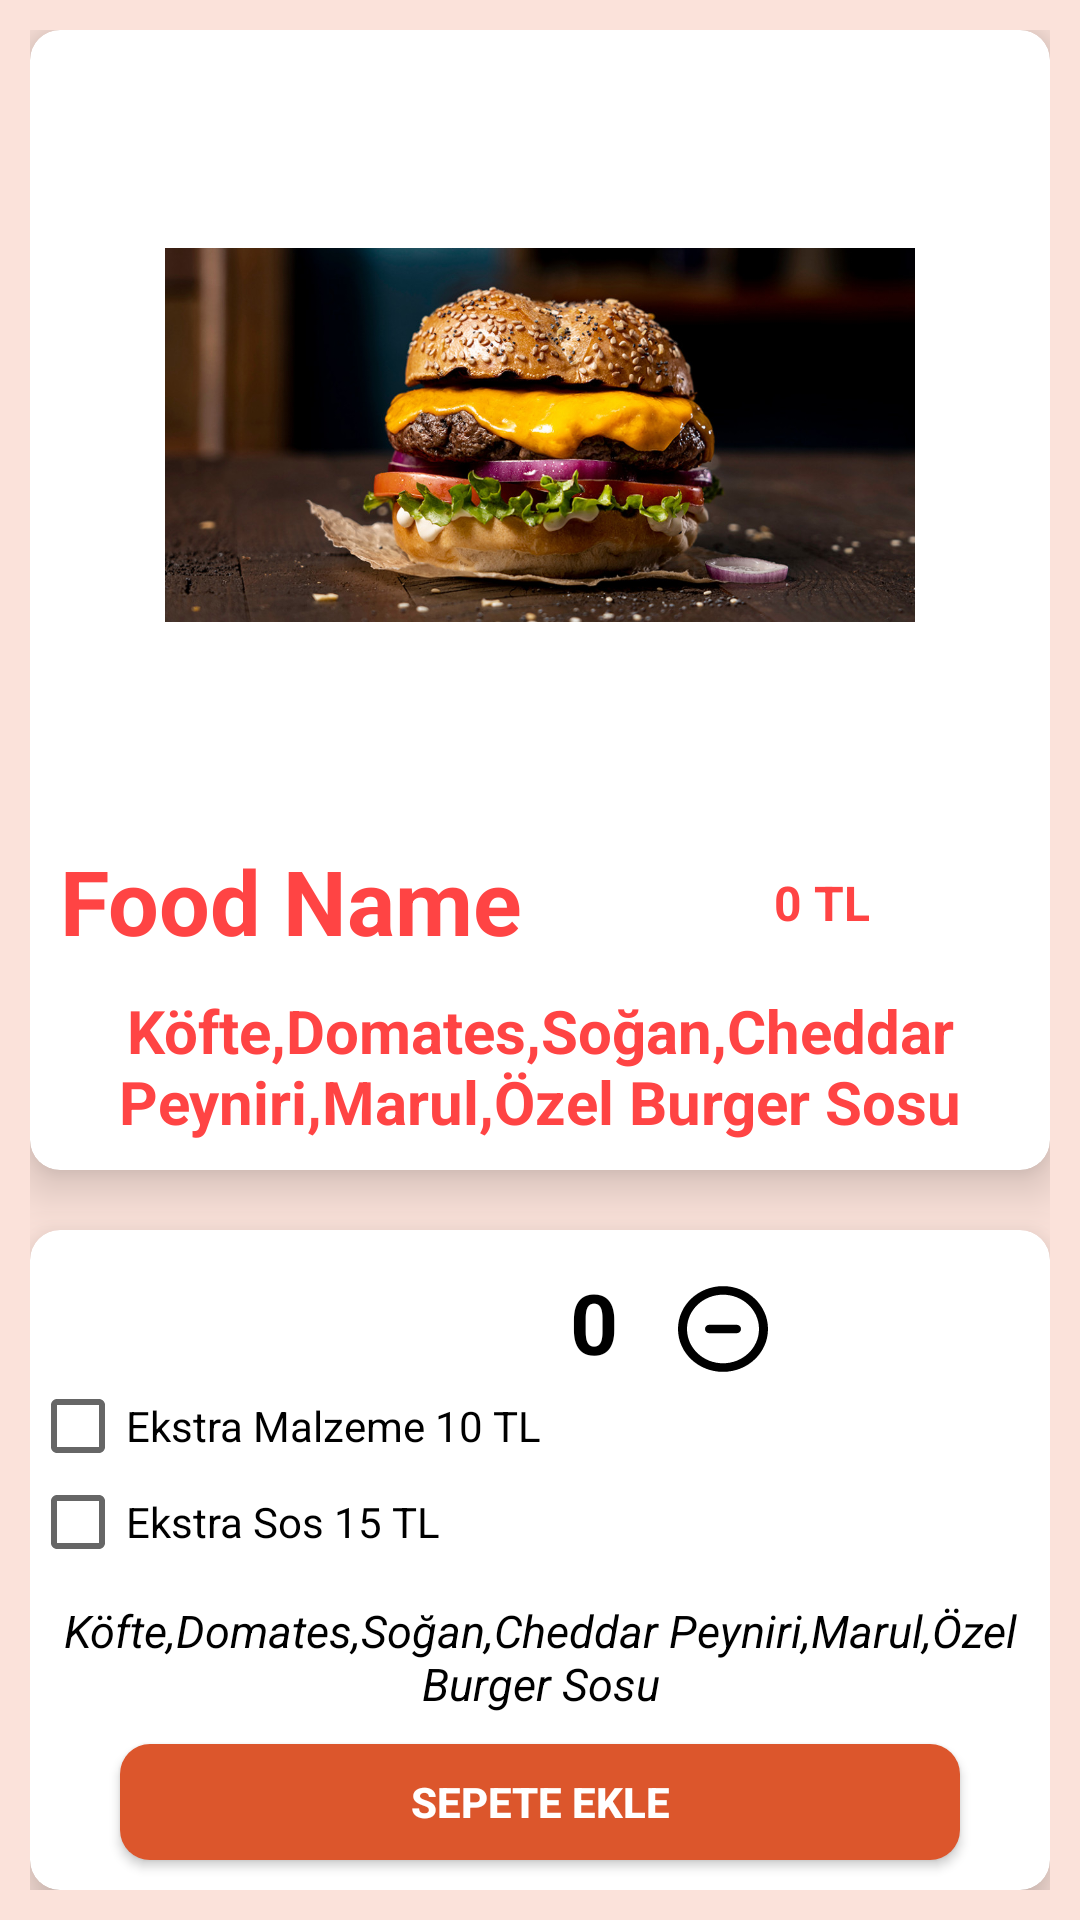

Icon click points for this 1080×1920 phone screenshot, format (x=x, y=y):
minuss: (x=723, y=1329)
